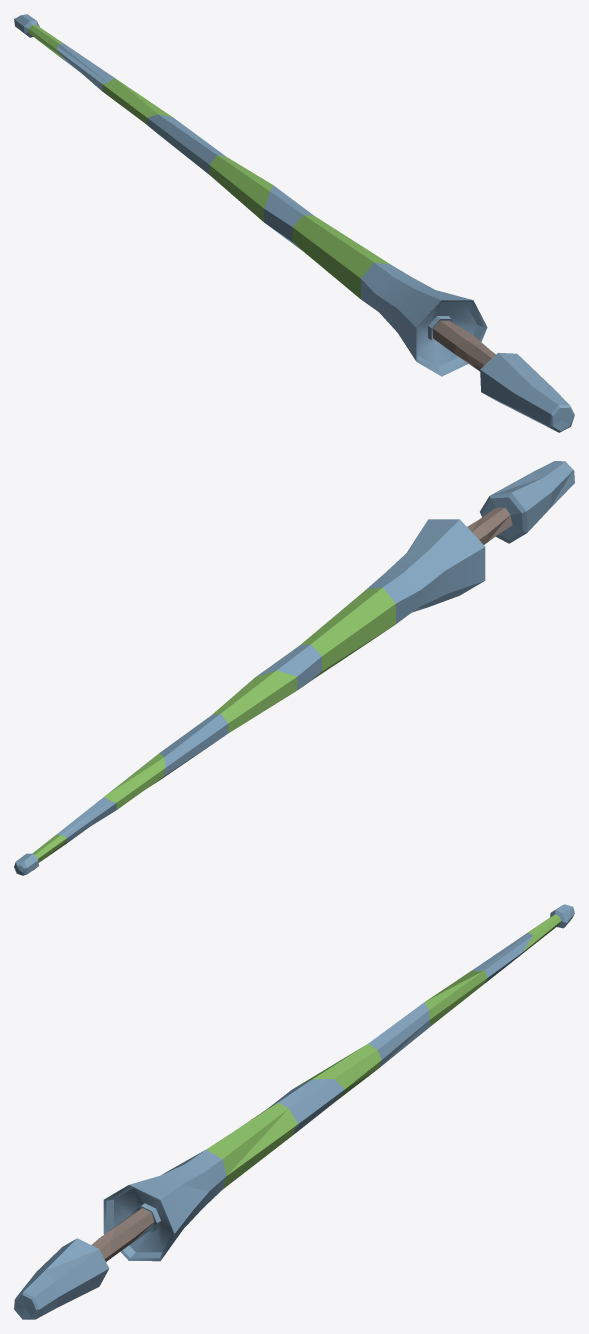
The model's file is lance_v2.fbx.
3 views of the same model, one above another, from view 1: azimuth 30°, elevation 25°; view 2: azimuth 150°, elevation 25°; view 3: azimuth 330°, elevation 25° (orthographic).
Visible parts, largest first — view 1: lance; view 2: lance; view 3: lance.
Boxes of the visible parts, x1,y1,x2,y2 form: lance: (14,14,574,432); lance: (14,461,574,875); lance: (14,904,574,1319).
Size of the model in its own units: 0.293 by 0.3005 by 3.89.
